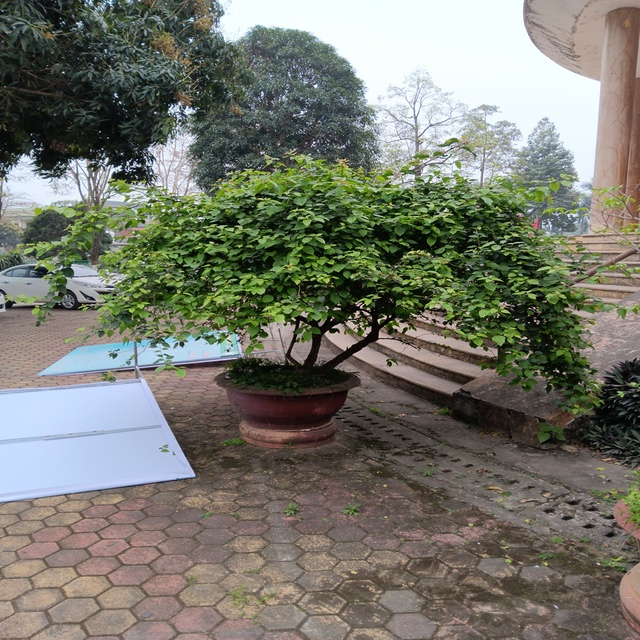caycanh: (169, 171, 395, 482)
